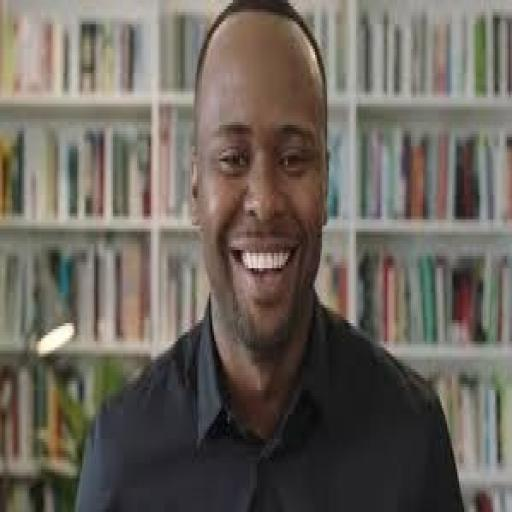laughing: (70, 3, 466, 506)
